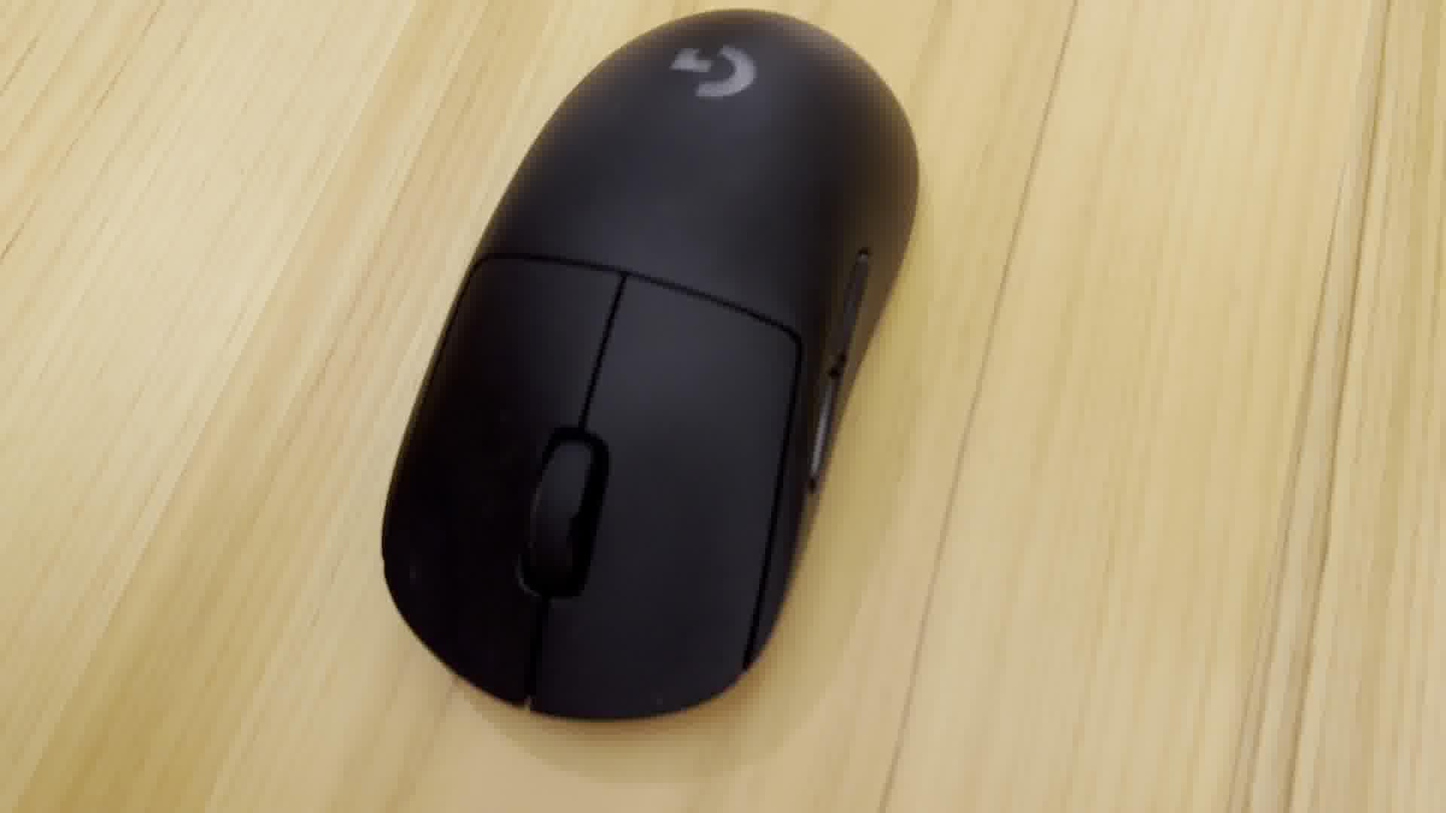mouse: (382, 6, 927, 731)
